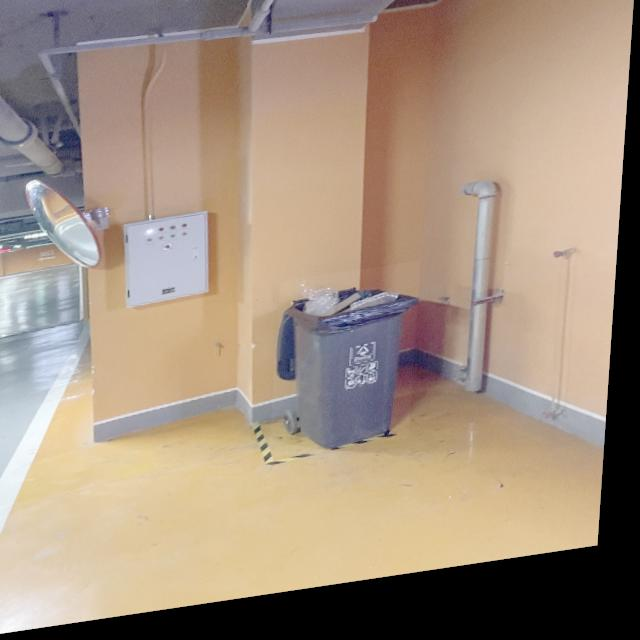overflow: (276, 274, 425, 468)
